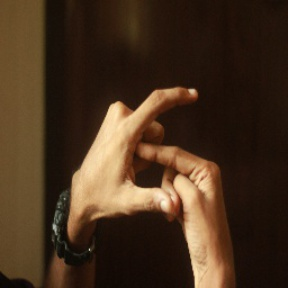E: (116, 77, 213, 218)
